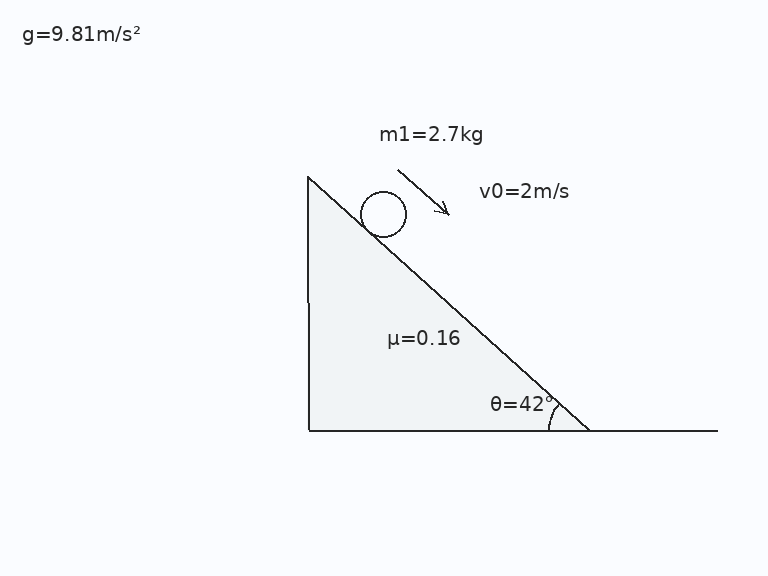ball: (358, 189, 408, 239)
ramp: (305, 174, 591, 432)
